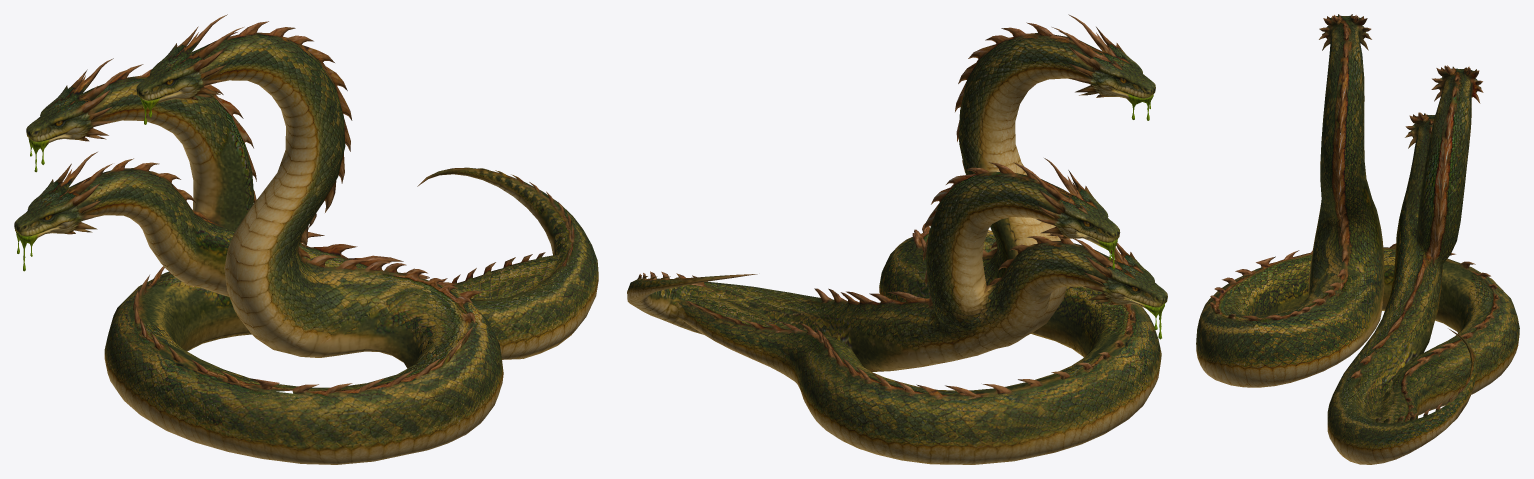
Rendered from three-headed dragon 3d model.glb.
The picture shows the model from 3 angles, left to right: view 1: azimuth 30°, elevation 25°; view 2: azimuth 150°, elevation 25°; view 3: azimuth 270°, elevation 25°; orthographic projection. The views are drawn at different scales.
Parts seen in each view (by area): view 1: tripo_9f88c402_73f5_406b_ad24_1ea58e9b7c31; view 2: tripo_9f88c402_73f5_406b_ad24_1ea58e9b7c31; view 3: tripo_9f88c402_73f5_406b_ad24_1ea58e9b7c31.
Part boxes in pixels (x1=…): tripo_9f88c402_73f5_406b_ad24_1ea58e9b7c31: x1=14, y1=14, x2=598, y2=464; tripo_9f88c402_73f5_406b_ad24_1ea58e9b7c31: x1=627, y1=14, x2=1167, y2=464; tripo_9f88c402_73f5_406b_ad24_1ea58e9b7c31: x1=1196, y1=14, x2=1519, y2=464.
Size of the model in its own units: 0.9995 by 0.6909 by 0.6411.
1 material, 1 textured.
